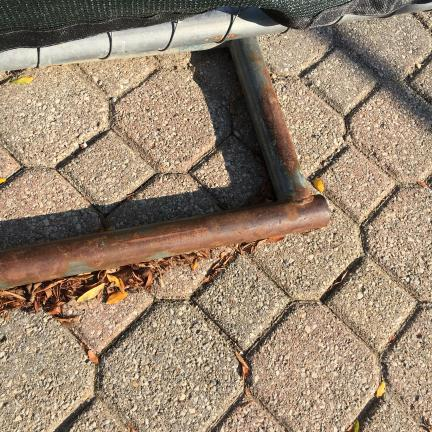besi_tidak_karat: (111, 8, 235, 59)
karat: (0, 38, 329, 288)
